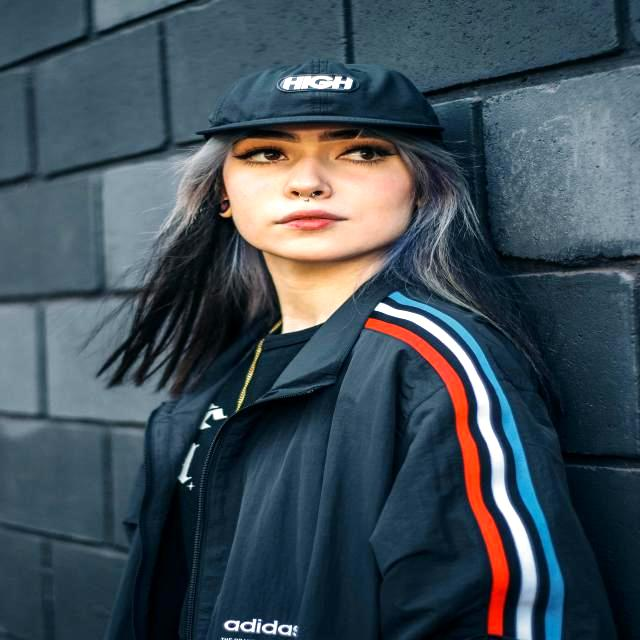no_hard_hat: (196, 60, 442, 139)
person: (108, 60, 615, 640)
